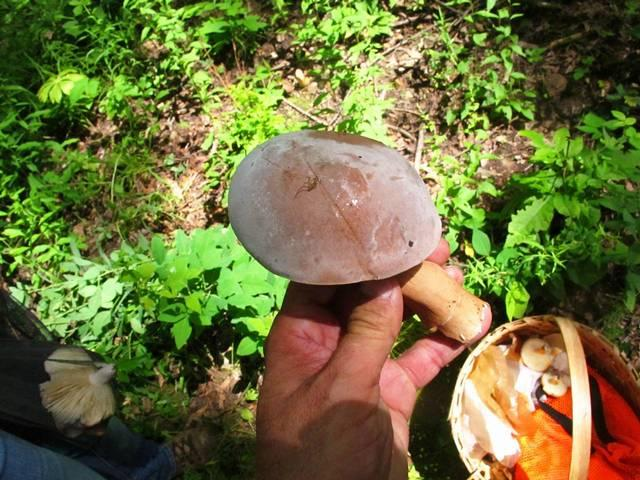poisonous_mushroom: (225, 127, 492, 350)
